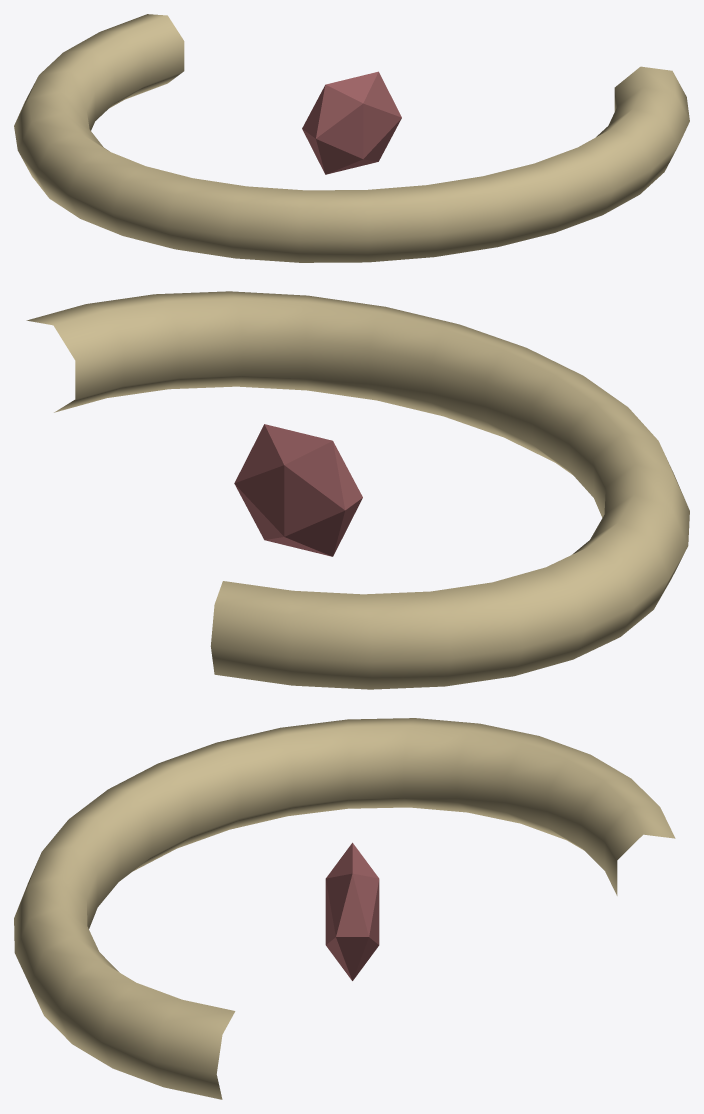
The model's file is wpn_m_03.glb.
3 renders of one model, top to bottom at view 1: azimuth 30°, elevation 25°; view 2: azimuth 150°, elevation 25°; view 3: azimuth 270°, elevation 25°, orthographic. The views are drawn at different scales.
Parts seen in each view (by area): view 1: attack_arc, attack_core; view 2: attack_arc, attack_core; view 3: attack_arc, attack_core.
Boxes of the visible parts, x1,y1,x2,y2 form: attack_arc: (14,14,689,262); attack_core: (302,71,401,174); attack_arc: (26,291,689,689); attack_core: (234,424,362,556); attack_arc: (14,718,675,1099); attack_core: (325,842,379,980).
Bounding box in the file's own units: 1.27 × 0.1939 × 1.1.
